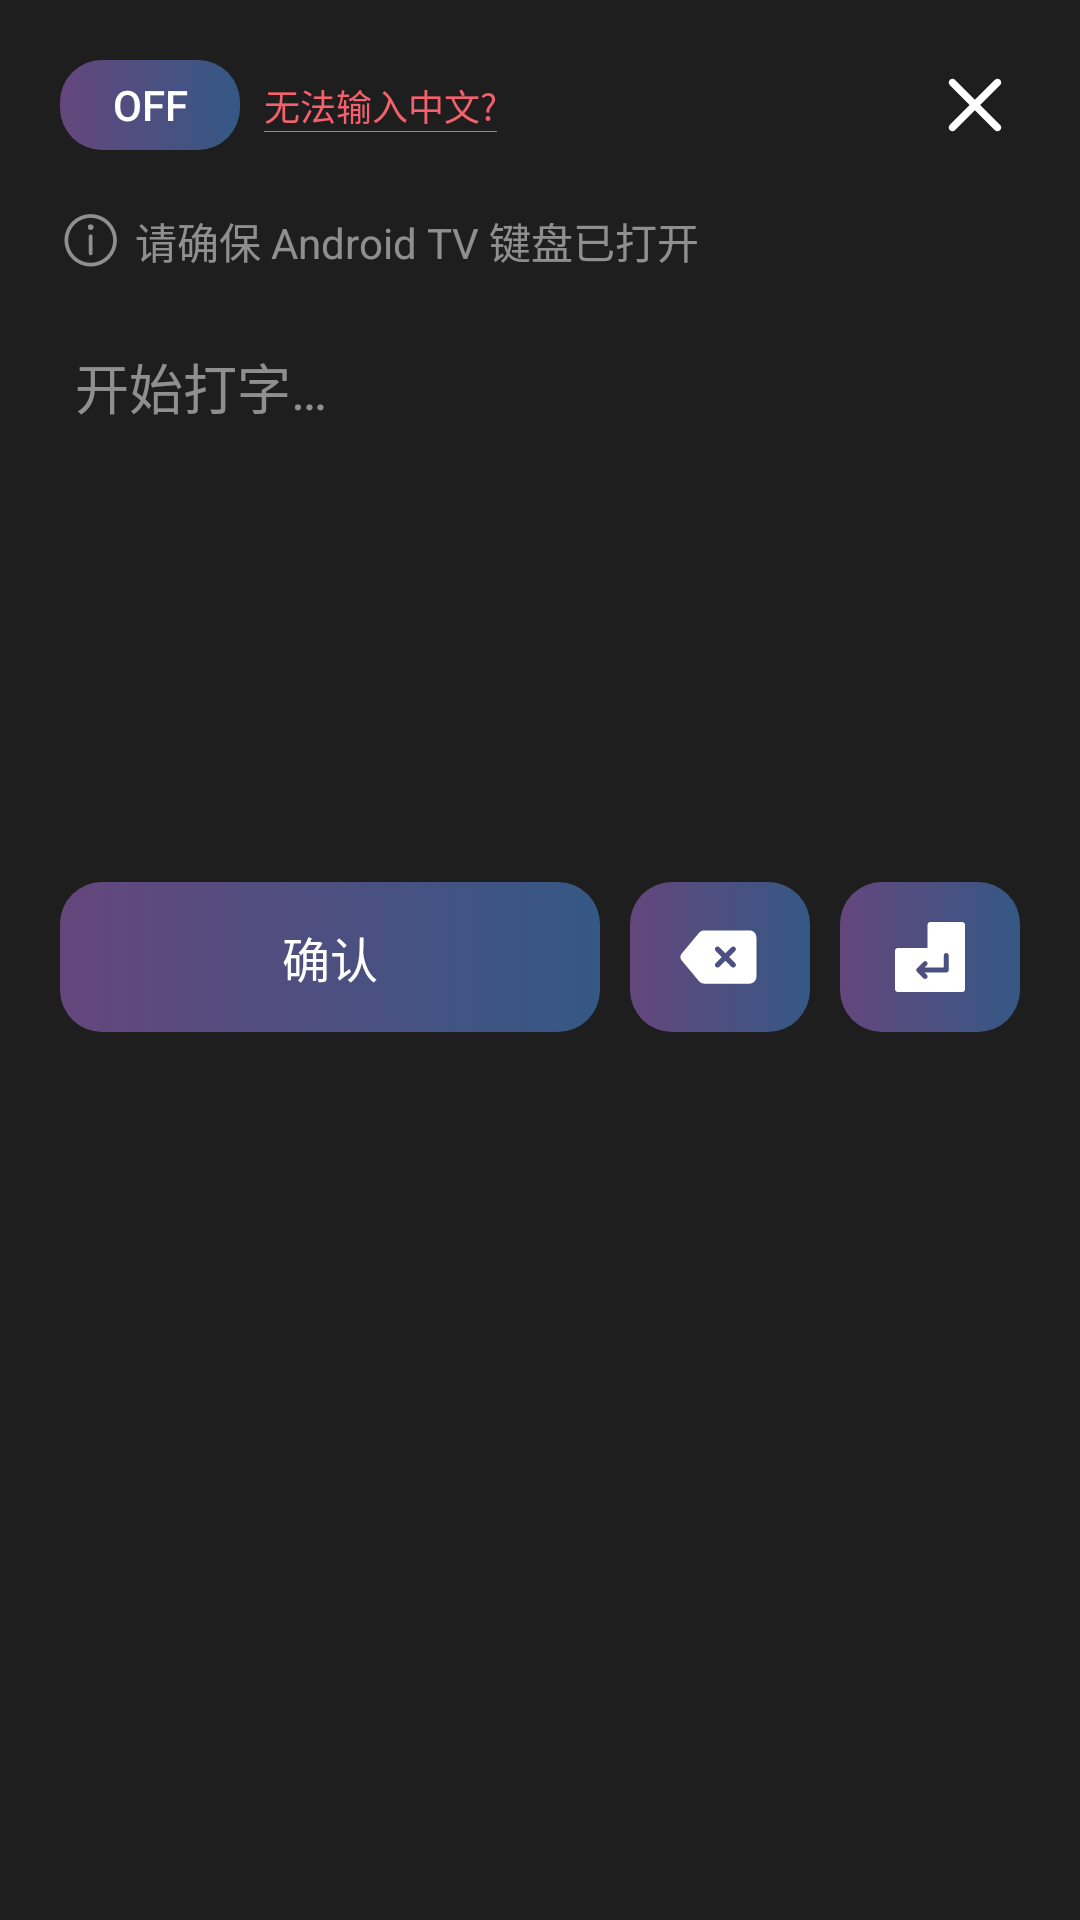

Where icons sit on this 1080x1920 app screen, as (x1, y1, x2, y2):
about: (64, 214, 117, 267)
关闭: (948, 78, 1002, 132)
前往: (840, 882, 1020, 1032)
退格: (630, 882, 810, 1032)
